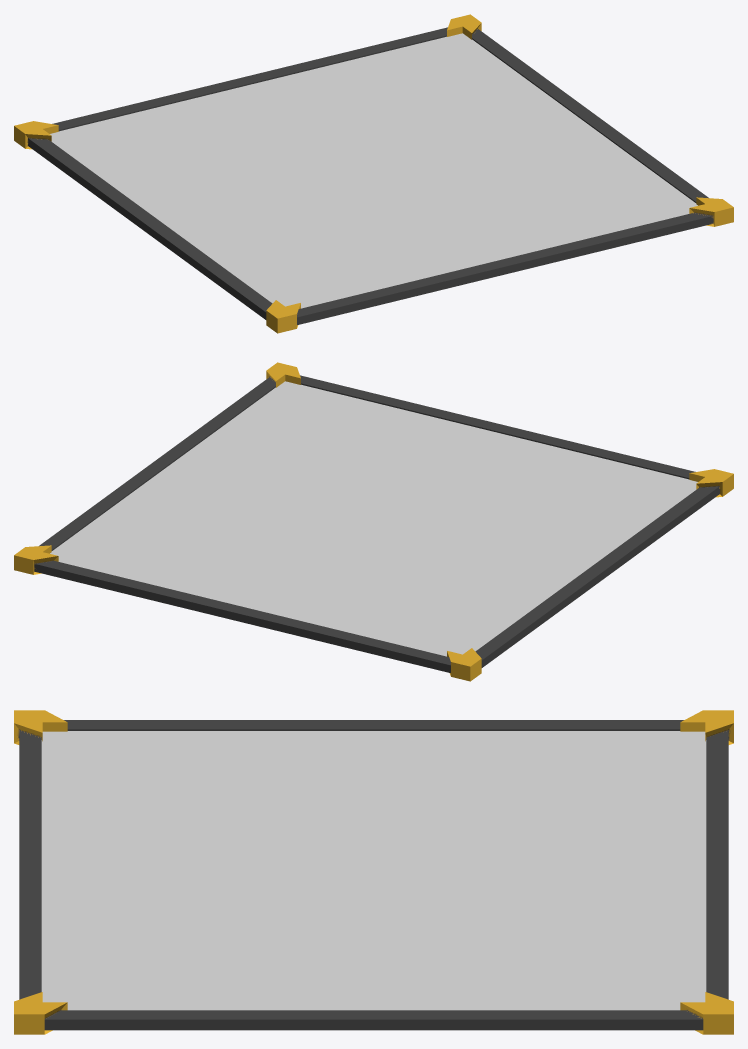
File: framequad.fbx
3 views of the same model, one above another, from view 1: azimuth 30°, elevation 25°; view 2: azimuth 150°, elevation 25°; view 3: azimuth 270°, elevation 25° (orthographic). The views are drawn at different scales.
Visible parts, largest first — view 1: Plane.001, Plane; view 2: Plane.001, Plane; view 3: Plane.001, Plane.
Boxes of the visible parts, bbox=[...] form: Plane.001: bbox=[50, 33, 697, 308]; Plane: bbox=[14, 14, 733, 333]; Plane.001: bbox=[50, 381, 697, 656]; Plane: bbox=[14, 362, 733, 681]; Plane.001: bbox=[41, 731, 706, 1010]; Plane: bbox=[14, 710, 733, 1034].
Bounding box in the file's own units: 6092 × 190 × 6092.
